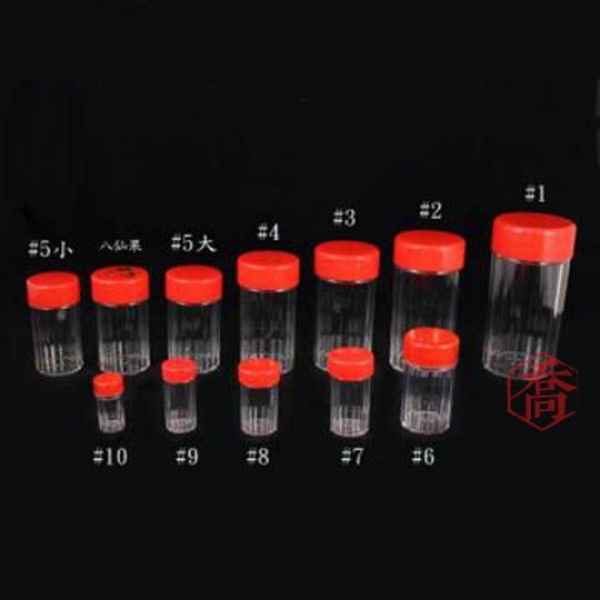medicinejar: (489, 207, 576, 380), (391, 226, 464, 378), (310, 240, 381, 373), (84, 263, 158, 380), (234, 253, 300, 383), (154, 257, 225, 377), (24, 271, 90, 381), (400, 327, 457, 435), (323, 343, 370, 437), (236, 355, 284, 436), (156, 360, 200, 442), (84, 375, 133, 438)
